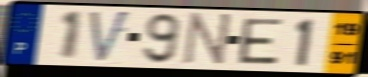1: (58, 10, 86, 62), (293, 16, 317, 68)
9: (141, 11, 182, 65)
E: (237, 17, 285, 66)
N: (180, 11, 235, 68)
V: (87, 8, 133, 65)
